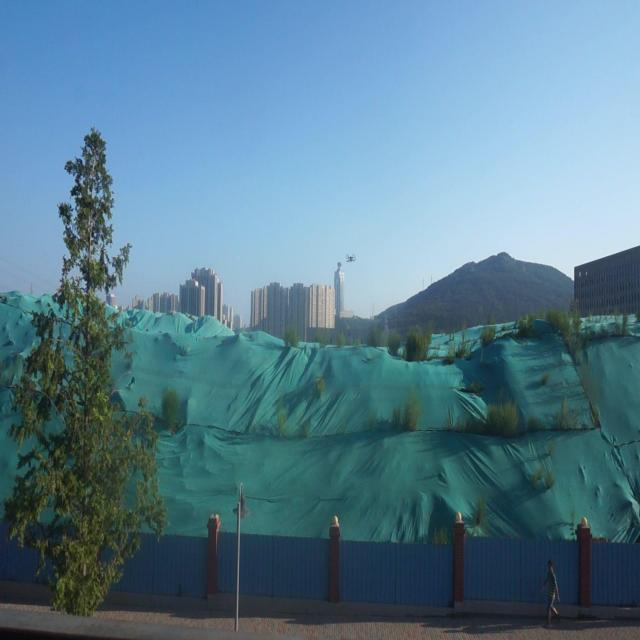UAV: (346, 254, 356, 262)
